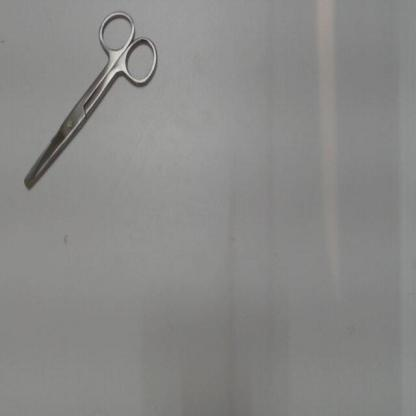Dressing Scissors: (14, 2, 165, 199)
